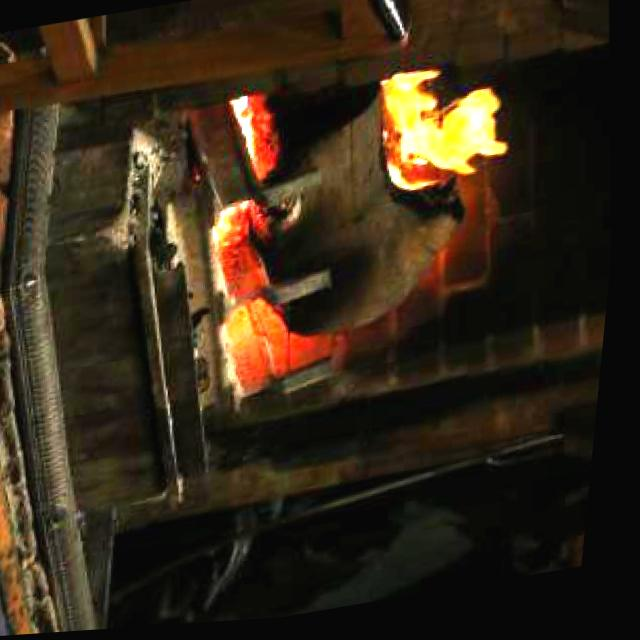Fire: (366, 52, 526, 205)
